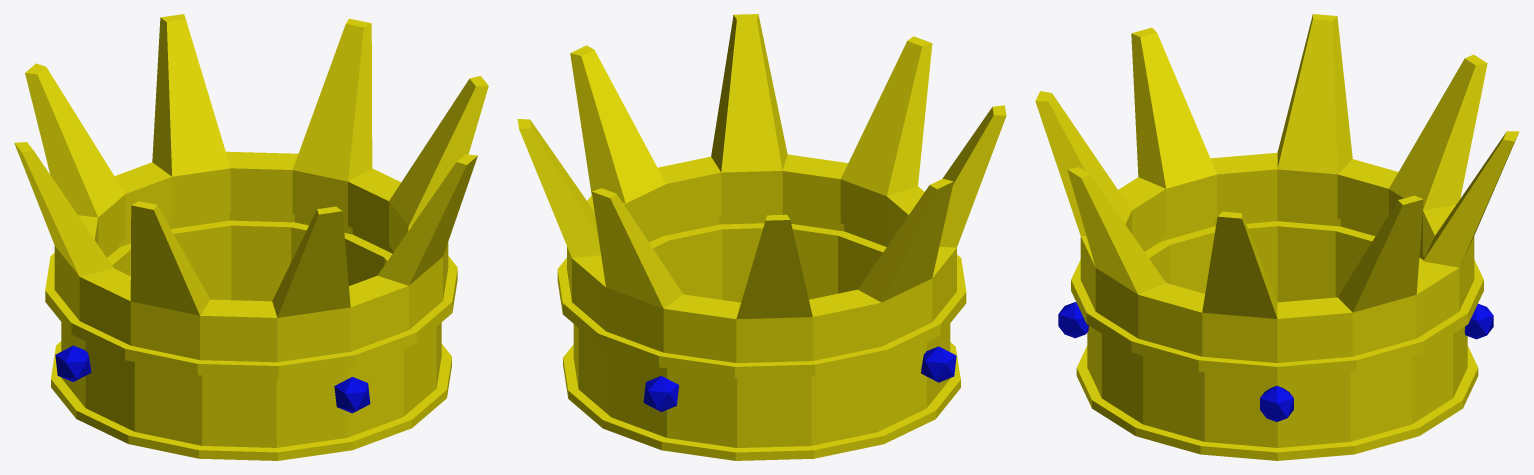
File: Coroa.fbx
3 views of the same model, side by side, from view 1: azimuth 30°, elevation 25°; view 2: azimuth 150°, elevation 25°; view 3: azimuth 270°, elevation 25° (orthographic).
Visible parts, largest first — view 1: Cube, Cube.001; view 2: Cube, Cube.001; view 3: Cube, Cube.001.
Part boxes in pixels (bbox=[...]): Cube: bbox=[14, 14, 488, 460]; Cube.001: bbox=[55, 345, 370, 413]; Cube: bbox=[517, 14, 1006, 460]; Cube.001: bbox=[643, 346, 956, 411]; Cube: bbox=[1035, 14, 1519, 460]; Cube.001: bbox=[1058, 302, 1493, 421].
Bounding box in the file's own units: 246 × 153 × 246.
